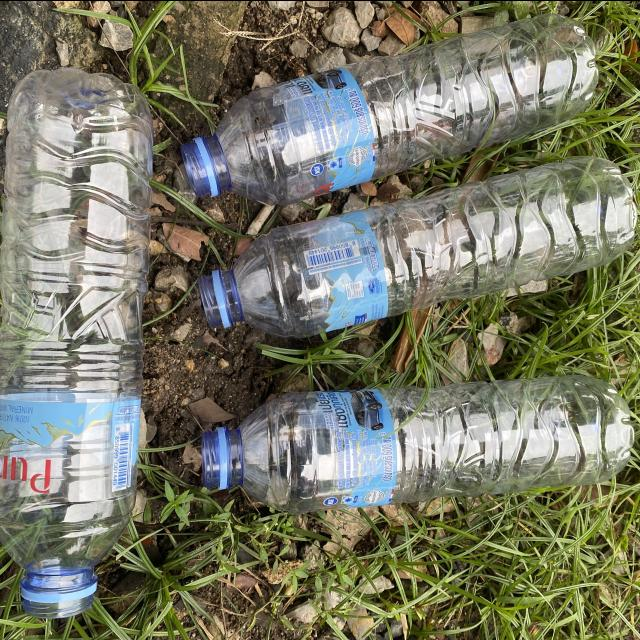plastik: (0, 67, 153, 616), (182, 13, 598, 204), (199, 156, 637, 336), (202, 375, 634, 510)
